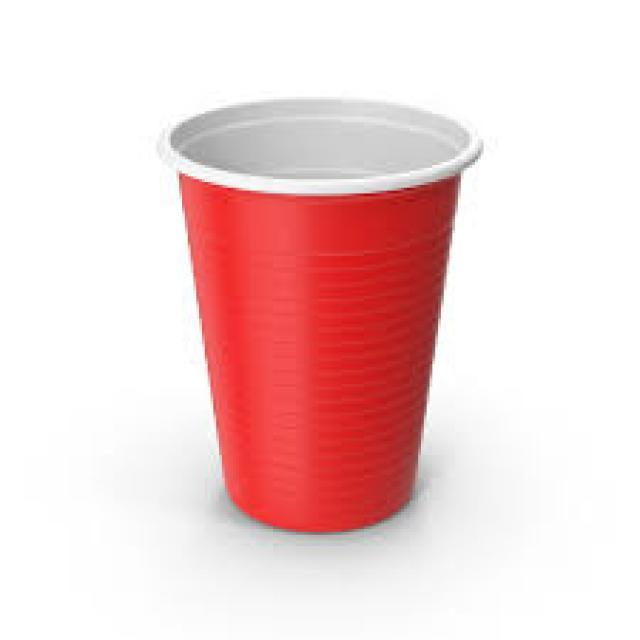cup: (162, 67, 492, 560)
